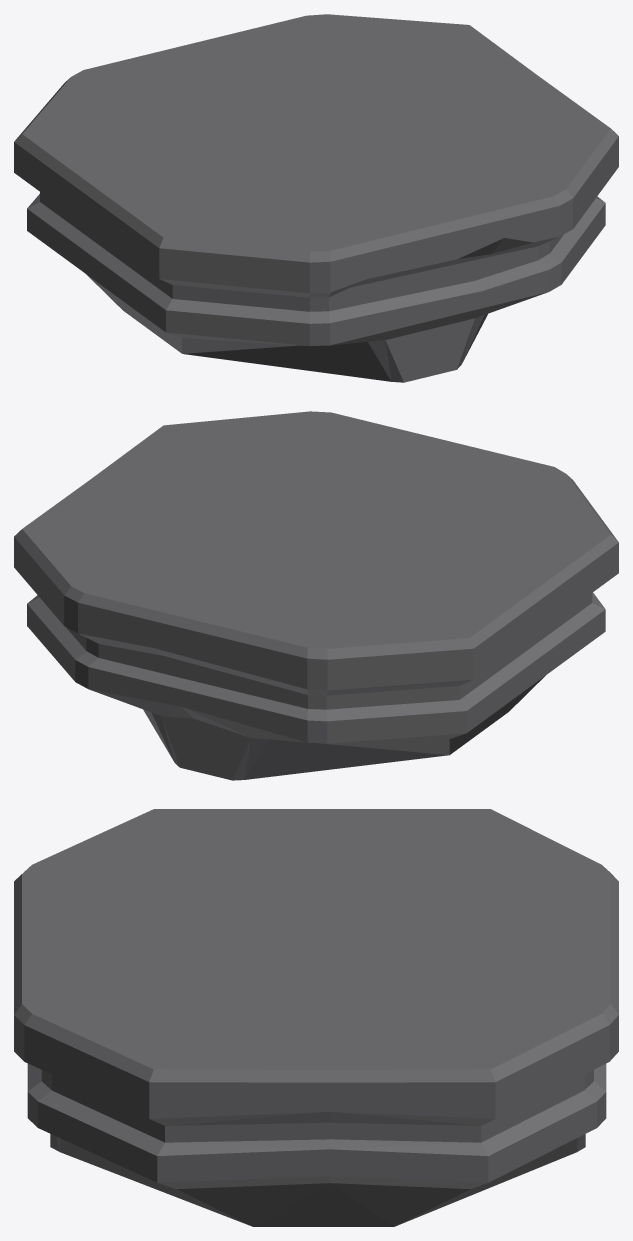
The model's file is SM_Bld_Castle_Tower_Base_01.gltf.
3 views of the same model, one above another, from view 1: azimuth 30°, elevation 25°; view 2: azimuth 150°, elevation 25°; view 3: azimuth 270°, elevation 25° (orthographic). The views are drawn at different scales.
Visible parts, largest first — view 1: SM_Bld_Castle_Tower_Base_01; view 2: SM_Bld_Castle_Tower_Base_01; view 3: SM_Bld_Castle_Tower_Base_01.
Boxes of the visible parts, left/top/right/bottom form: SM_Bld_Castle_Tower_Base_01: left=14, top=14, right=618, bottom=382; SM_Bld_Castle_Tower_Base_01: left=14, top=411, right=618, bottom=780; SM_Bld_Castle_Tower_Base_01: left=14, top=809, right=618, bottom=1226.
Bounding box in the file's own units: 2.77 × 0.9316 × 2.65.
1 material, 1 textured.
